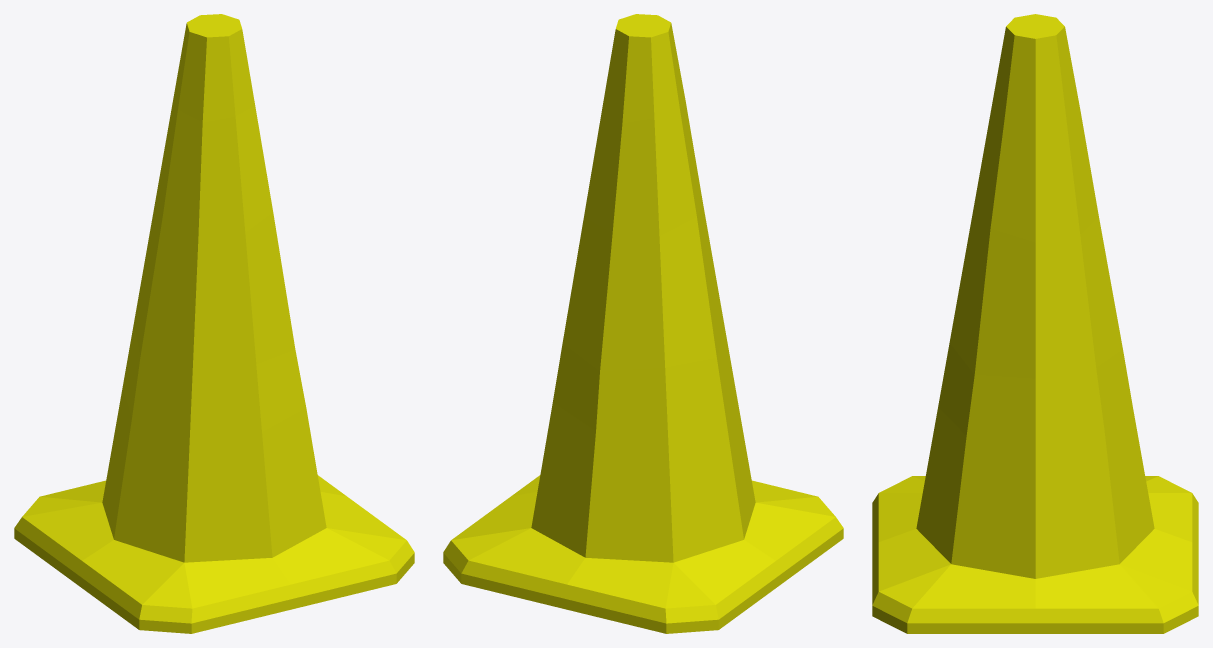
The model's file is SM_PolygonPrototype_Prop_Cone_01.glb.
3 views of the same model, side by side, from view 1: azimuth 30°, elevation 25°; view 2: azimuth 150°, elevation 25°; view 3: azimuth 270°, elevation 25° (orthographic). The views are drawn at different scales.
Parts seen in each view (by area): view 1: SM_PolygonPrototype_Prop_Cone_01; view 2: SM_PolygonPrototype_Prop_Cone_01; view 3: SM_PolygonPrototype_Prop_Cone_01.
Part boxes in pixels (x1,y1,x2,y2): SM_PolygonPrototype_Prop_Cone_01: (14,14,414,633); SM_PolygonPrototype_Prop_Cone_01: (443,14,843,633); SM_PolygonPrototype_Prop_Cone_01: (872,14,1198,633).
Size of the model in its own units: 0.4532 by 0.825 by 0.4532.
1 material, 1 textured.
